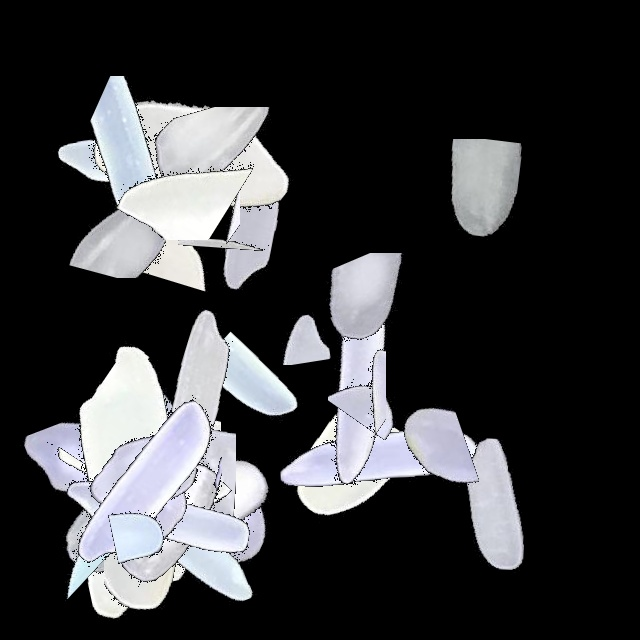Broken: (128, 93, 301, 343), (41, 76, 291, 248), (15, 370, 177, 620), (6, 116, 256, 278), (104, 390, 264, 640), (0, 462, 250, 618), (355, 139, 605, 292), (100, 107, 350, 260), (269, 356, 416, 606), (145, 388, 292, 638), (259, 253, 509, 393), (45, 103, 295, 240), (102, 353, 236, 603), (277, 396, 527, 529), (137, 328, 387, 459), (11, 426, 261, 556), (19, 372, 140, 622), (100, 377, 221, 627), (0, 411, 250, 525), (328, 247, 435, 497), (279, 277, 386, 527), (162, 259, 412, 365), (39, 474, 289, 579), (54, 449, 304, 553), (139, 83, 240, 333), (133, 108, 230, 358), (178, 75, 274, 325), (164, 390, 250, 640), (75, 390, 161, 640), (137, 341, 222, 591), (31, 382, 116, 632), (19, 513, 269, 593)
Full: (18, 390, 268, 640), (3, 390, 253, 640), (98, 390, 348, 640), (31, 35, 281, 285), (29, 33, 279, 283), (88, 376, 338, 626), (25, 321, 275, 571), (256, 330, 506, 580), (70, 35, 320, 285), (229, 258, 479, 508), (41, 390, 291, 640), (15, 352, 265, 602), (76, 259, 326, 509), (9, 321, 259, 571), (34, 390, 284, 640), (371, 380, 621, 630), (20, 352, 270, 602), (21, 363, 271, 613)
